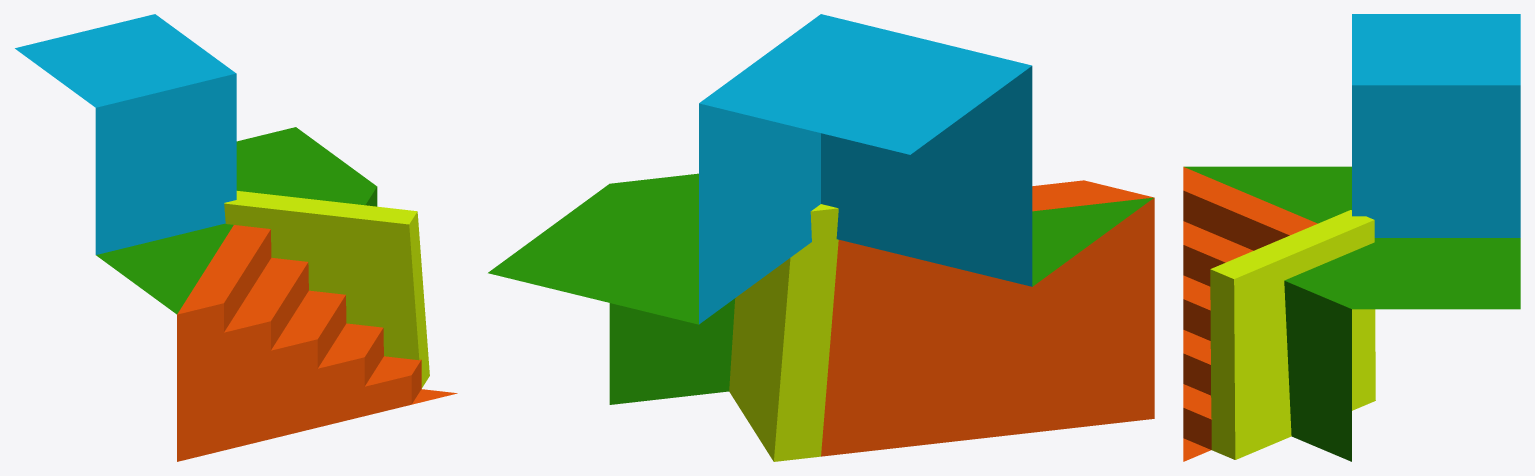
The picture shows the model from 3 angles, left to right: view 1: azimuth 30°, elevation 25°; view 2: azimuth 150°, elevation 25°; view 3: azimuth 270°, elevation 25°; orthographic projection. The views are drawn at different scales.
Parts seen in each view (by area): view 1: T_27_2_1; view 2: T_27_2_1; view 3: T_27_2_1.
Boxes of the visible parts, bbox=[...] form: T_27_2_1: bbox=[15, 14, 457, 461]; T_27_2_1: bbox=[488, 14, 1154, 461]; T_27_2_1: bbox=[1183, 14, 1520, 461].
Bounding box in the file's own units: 99.79 × 99.81 × 99.81.
